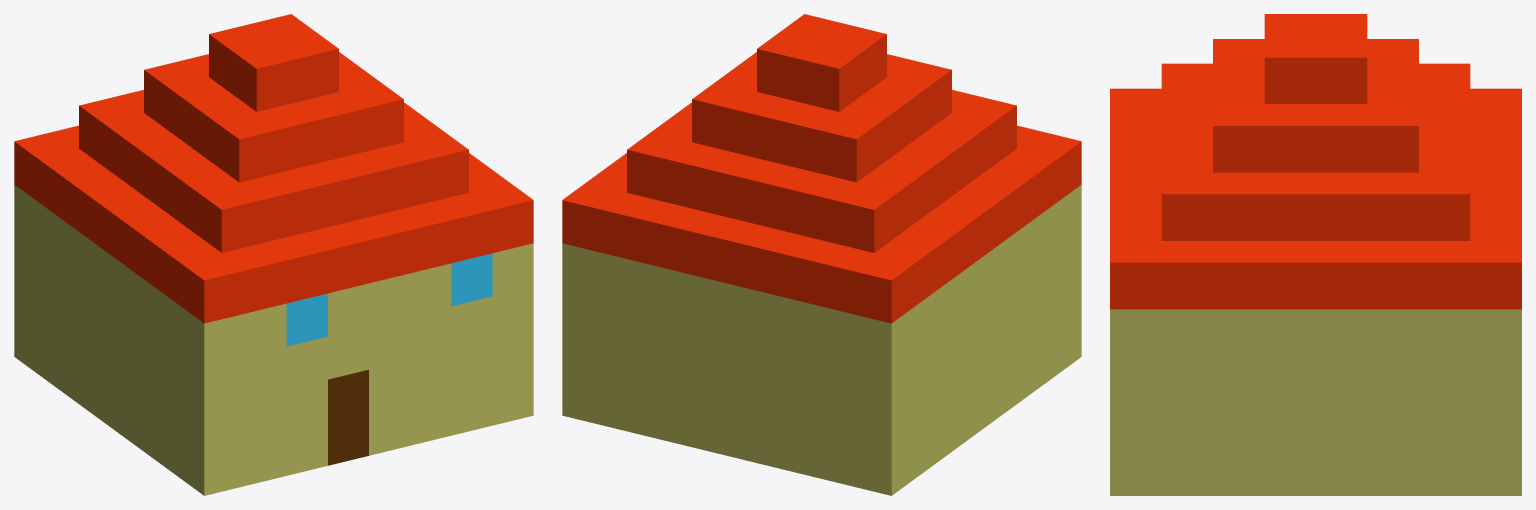
File: home.obj
3 views of the same model, side by side, from view 1: azimuth 30°, elevation 25°; view 2: azimuth 150°, elevation 25°; view 3: azimuth 270°, elevation 25° (orthographic). The views are drawn at different scales.
Bounding box in the file's own units: 0.8 × 0.8 × 0.8.
1 material, 1 textured.
